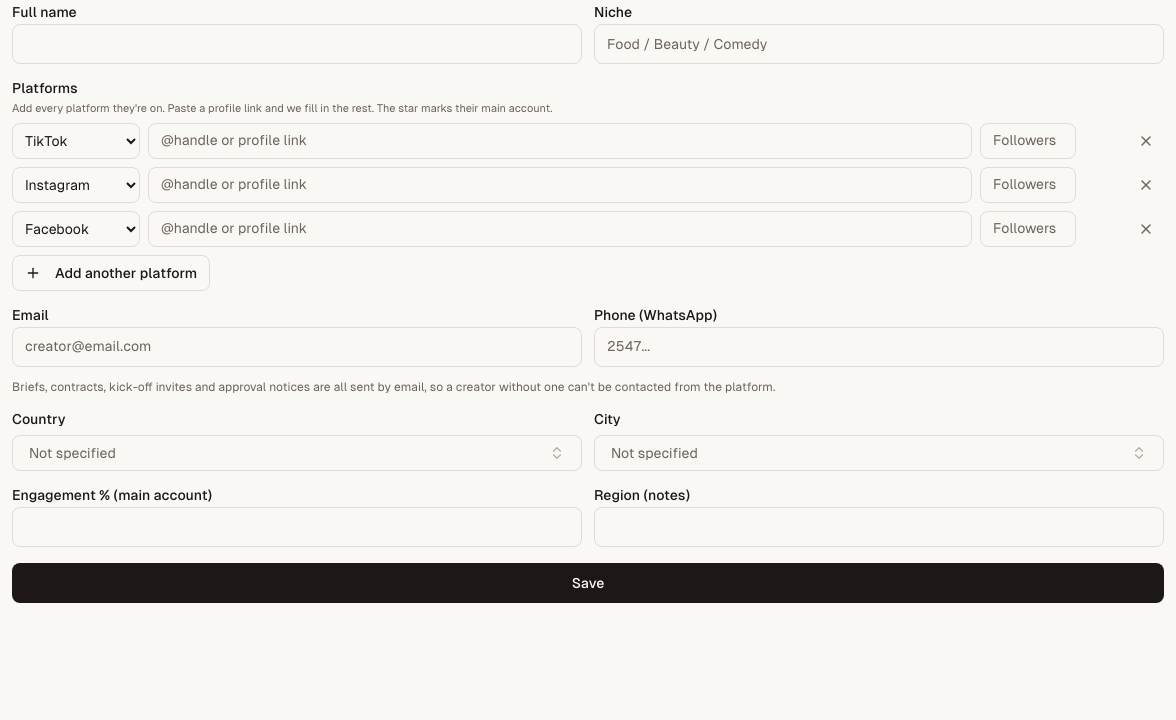
Test: catching someone already on the roster › asks about a same-named creator, and can still create a new one
Later steps or results of the test are not shown.
In the field labelled "Full name": (297, 44) x1=12 y1=24 x2=582 y2=64, type "jane cooks"
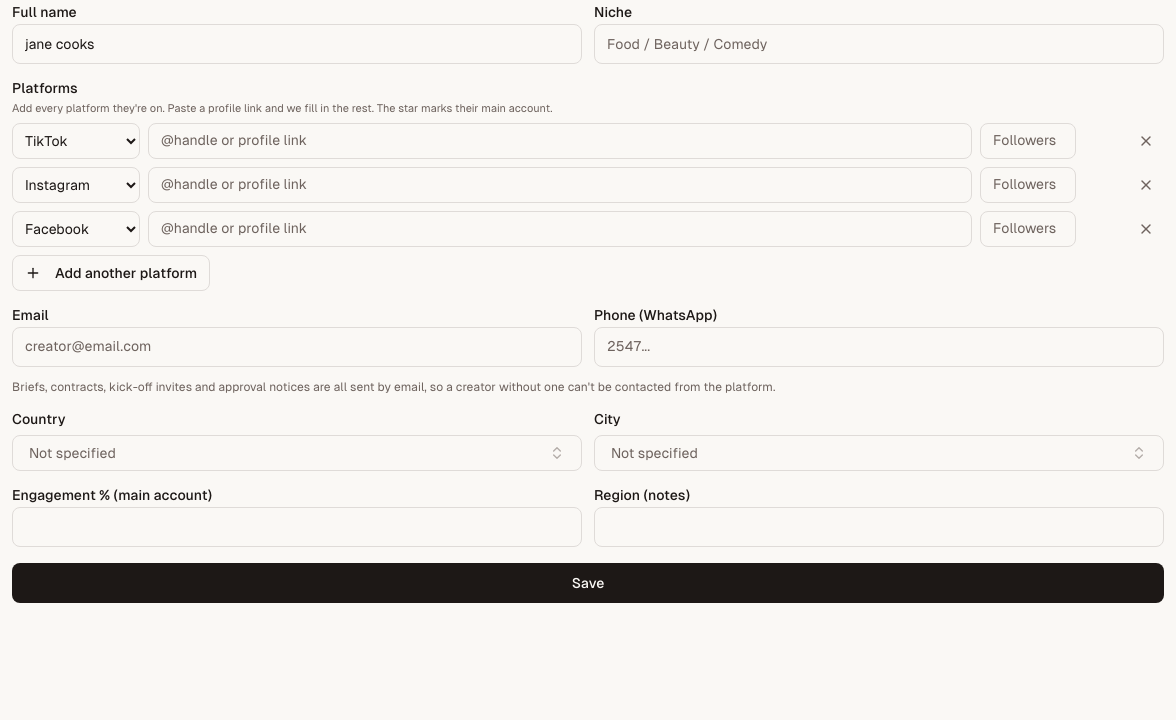
In the 1st field labelled "handle or profile link": (560, 140) x1=148 y1=122 x2=972 y2=158, type "different_handle"
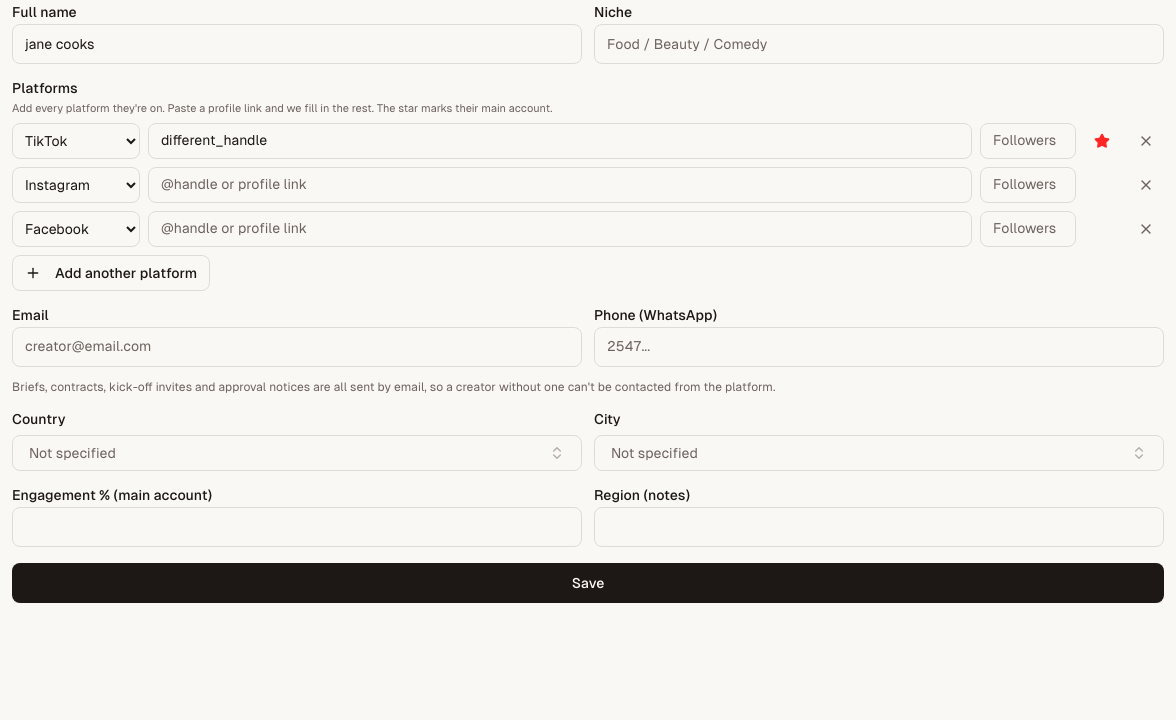
Click the button "Save": (588, 582) x1=12 y1=562 x2=1164 y2=602
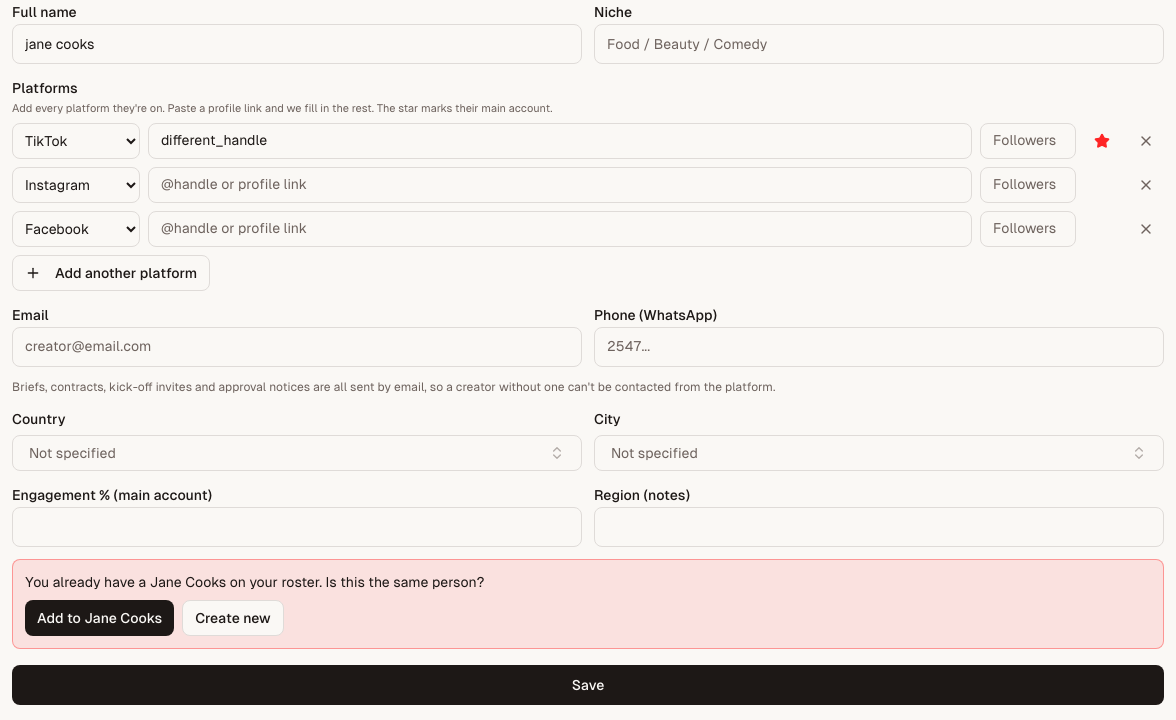
Expected: the text "already have a Jane Cooks" is shown, x1=25 y1=574 x2=485 y2=590
